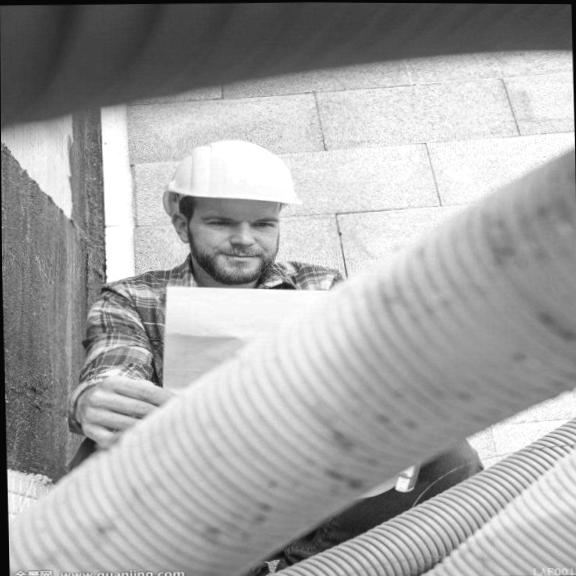no_safety_vest: (60, 255, 373, 461)
